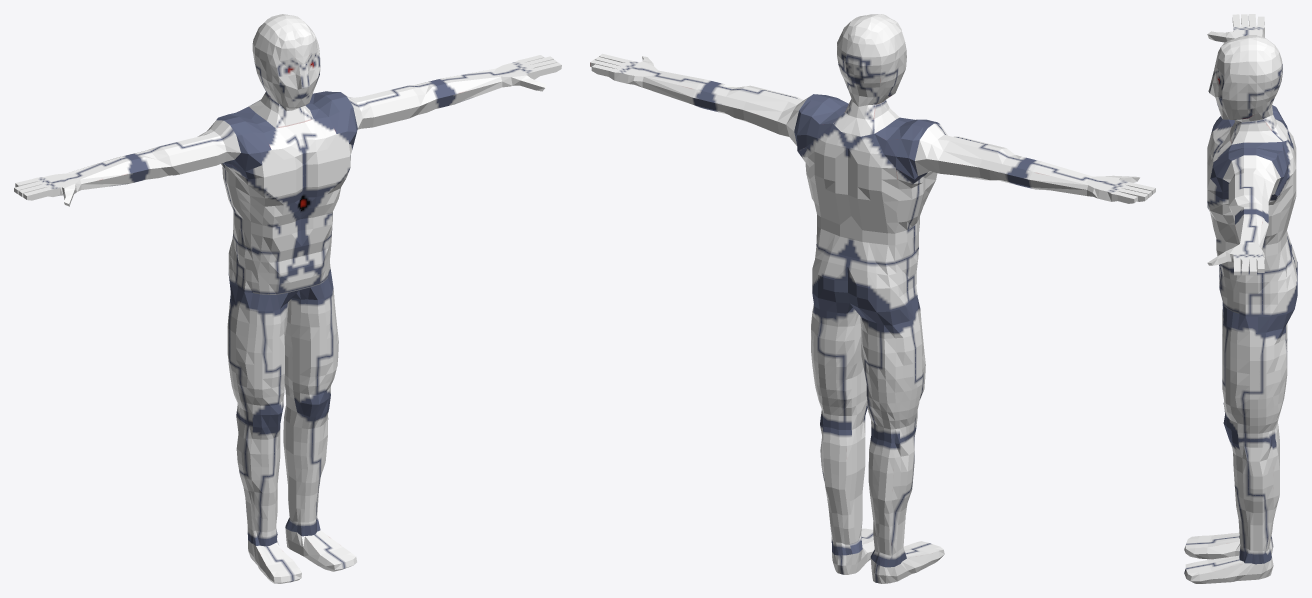
The model's file is Humanoid.dae.
3 renders of one model, left to right at view 1: azimuth 30°, elevation 25°; view 2: azimuth 150°, elevation 25°; view 3: azimuth 270°, elevation 25°, orthographic. The views are drawn at different scales.
Visible parts, largest first — view 1: Humanoid; view 2: Humanoid; view 3: Humanoid.
Part boxes in pixels (bbox=[...]): Humanoid: bbox=[14, 14, 561, 583]; Humanoid: bbox=[590, 14, 1155, 583]; Humanoid: bbox=[1184, 14, 1297, 583].
Size of the model in its own units: 0.7444 by 0.7097 by 0.1387.
Materials: 1 (1 with a texture image).
